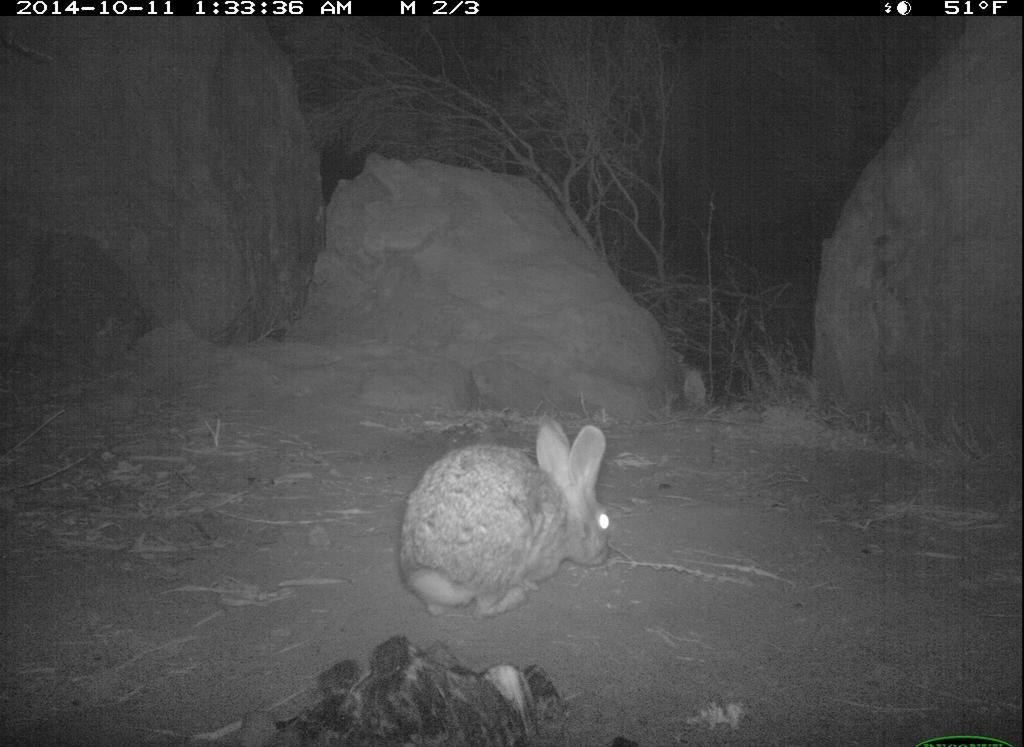rabbit: (387, 414, 621, 628)
